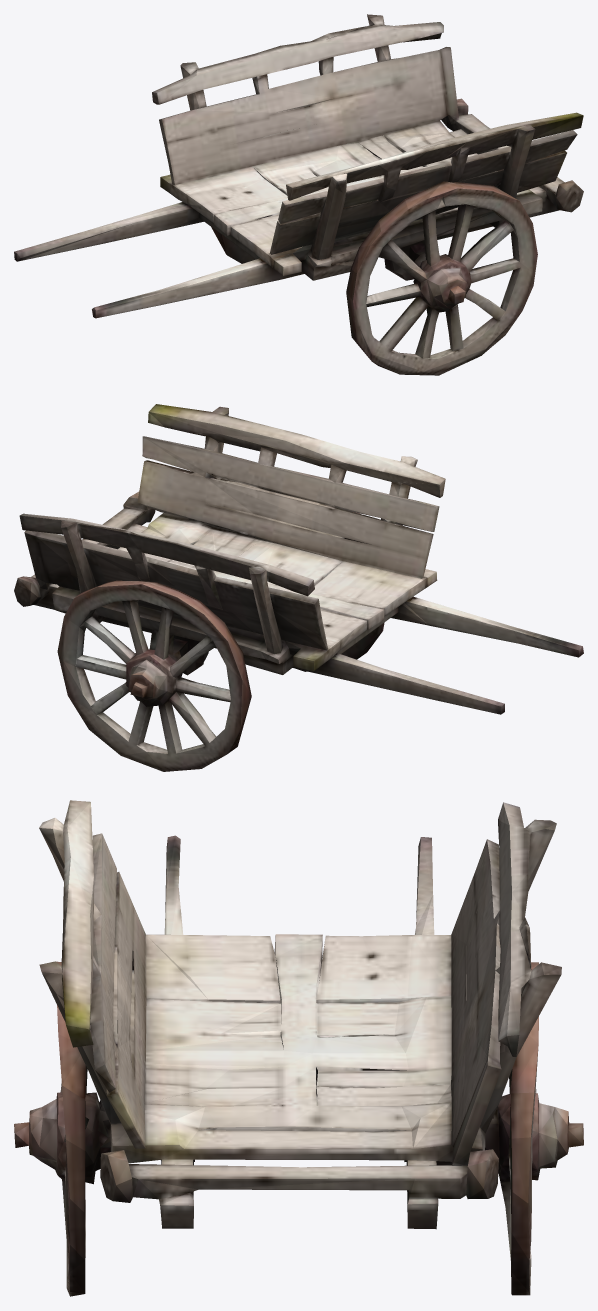
The model's file is ga3_cart_lod0.glb.
3 views of the same model, one above another, from view 1: azimuth 30°, elevation 25°; view 2: azimuth 150°, elevation 25°; view 3: azimuth 270°, elevation 25° (orthographic). The views are drawn at different scales.
Visible parts, largest first — view 1: ga3_cart_lod0; view 2: ga3_cart_lod0; view 3: ga3_cart_lod0.
Boxes of the visible parts, x1,y1,x2,y2 form: ga3_cart_lod0: [14, 14, 583, 375]; ga3_cart_lod0: [14, 404, 583, 771]; ga3_cart_lod0: [14, 800, 583, 1296].
Bounding box in the file's own units: 4.59 × 2.15 × 2.95.
Materials: 1 (1 with a texture image).
